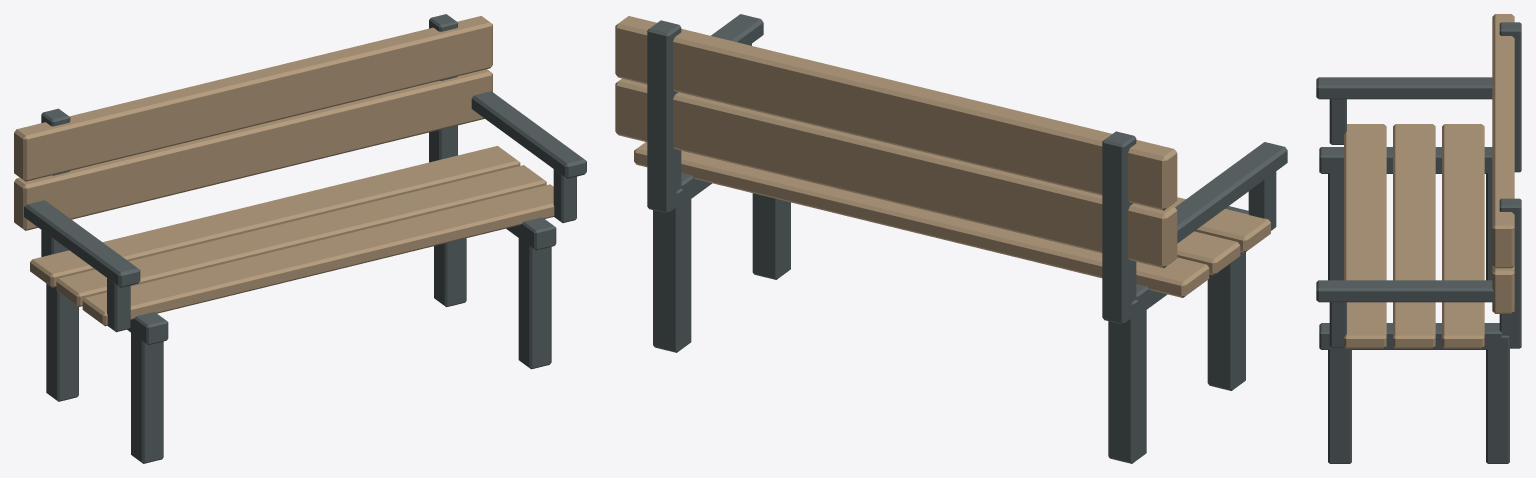
The model's file is bench.fbx.
3 views of the same model, side by side, from view 1: azimuth 30°, elevation 25°; view 2: azimuth 150°, elevation 25°; view 3: azimuth 270°, elevation 25° (orthographic). The views are drawn at different scales.
Visible parts, largest first — view 1: bench; view 2: bench; view 3: bench.
Part boxes in pixels (x1=…): bench: x1=14, y1=14, x2=586, y2=463; bench: x1=615, y1=14, x2=1287, y2=463; bench: x1=1316, y1=14, x2=1521, y2=463.
Bounding box in the file's own units: 1.6 × 0.9 × 0.65.
